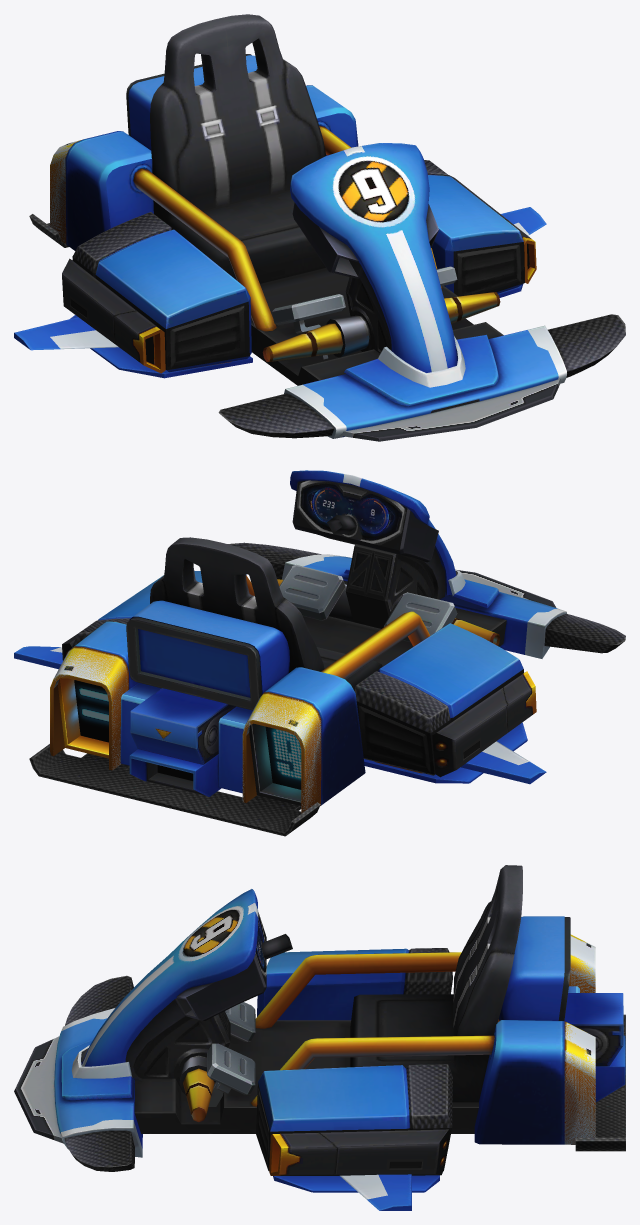
The model's file is Body4.fbx.
3 views of the same model, one above another, from view 1: azimuth 30°, elevation 25°; view 2: azimuth 150°, elevation 25°; view 3: azimuth 270°, elevation 25° (orthographic). The views are drawn at different scales.
Parts seen in each view (by area): view 1: r_0128.002; view 2: r_0128.002; view 3: r_0128.002.
Boxes of the visible parts, bbox=[...] form: r_0128.002: bbox=[14, 14, 625, 441]; r_0128.002: bbox=[14, 470, 625, 836]; r_0128.002: bbox=[14, 865, 625, 1210].
Size of the model in its own units: 169 by 69.31 by 178.
Materials: 1 (1 with a texture image).
